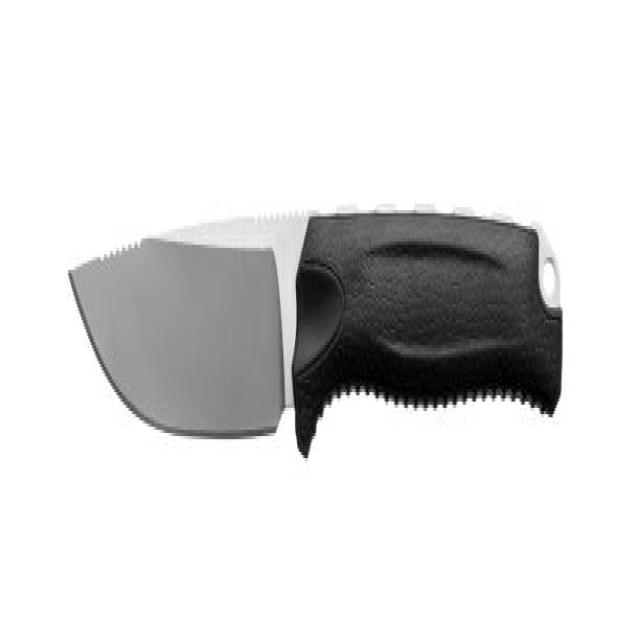knife: (66, 185, 570, 484)
